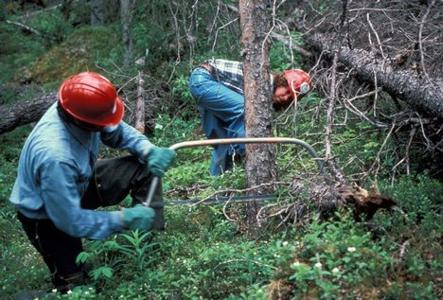person: (8, 71, 180, 293)
